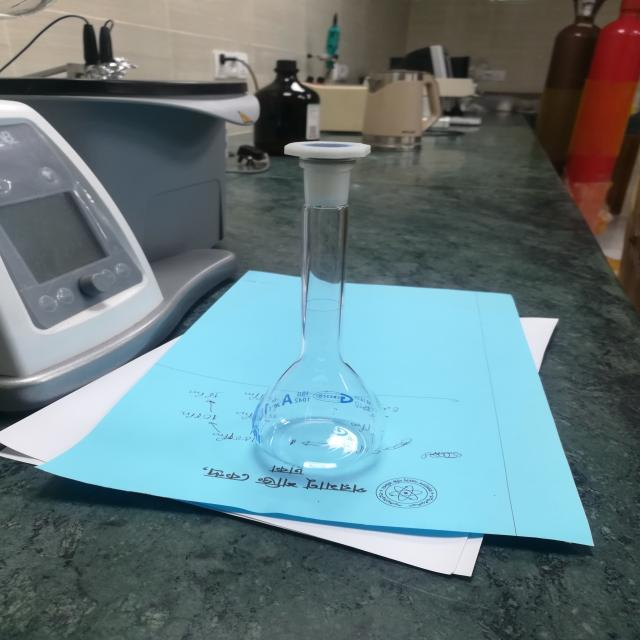Volumetric_Flask: (188, 81, 459, 503)
